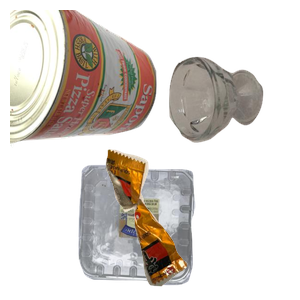glass: (166, 54, 300, 189)
metal: (10, 10, 159, 152)
plastic: (76, 162, 264, 300)
trash: (103, 147, 300, 300)
